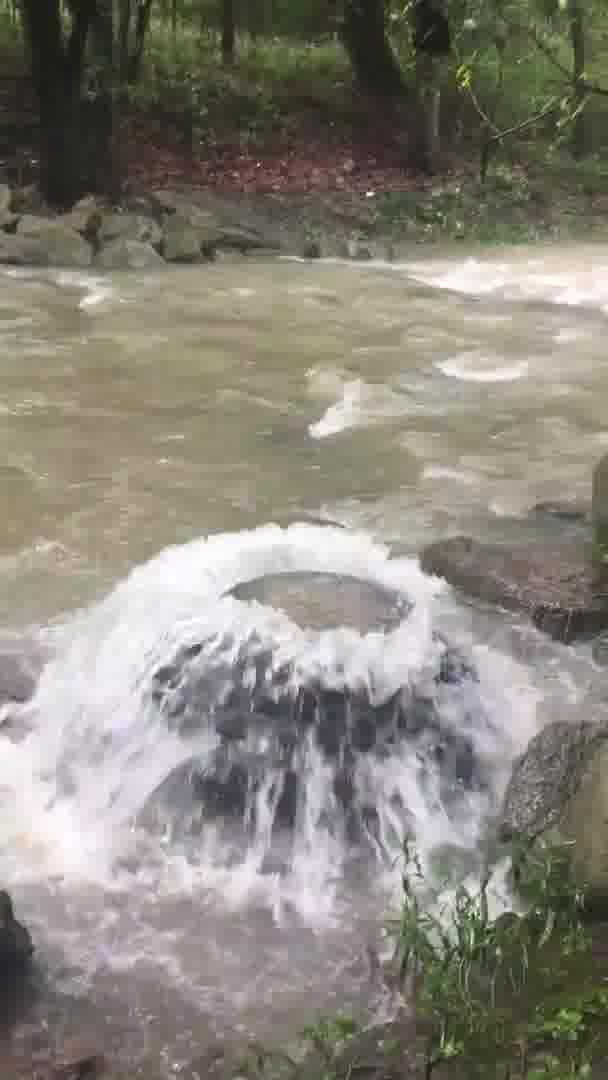drainage overflow-repair-: (81, 488, 493, 895)
